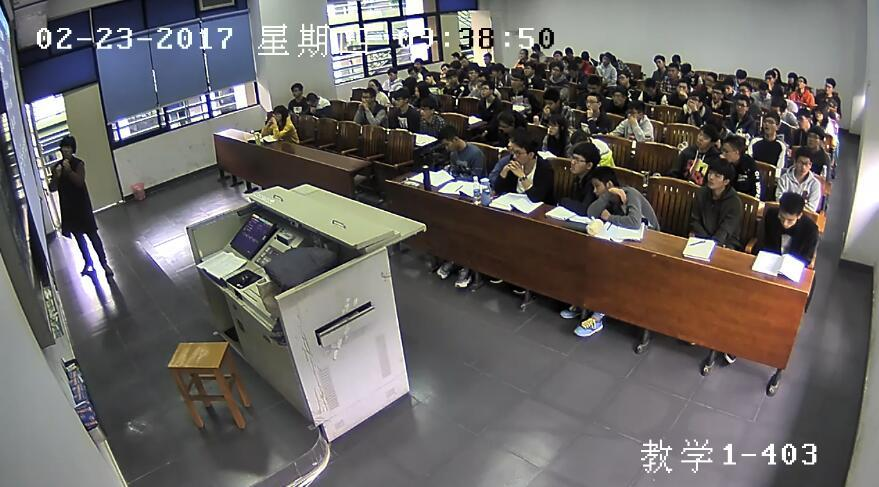head: (773, 187, 808, 232), (583, 162, 619, 201), (701, 160, 735, 198), (567, 143, 597, 173), (506, 132, 532, 165), (790, 144, 814, 179), (716, 134, 741, 163), (438, 126, 462, 155), (693, 123, 714, 152), (496, 109, 518, 135), (543, 111, 564, 138), (757, 112, 779, 136), (566, 127, 589, 149), (701, 114, 723, 137), (58, 134, 79, 158), (806, 125, 827, 149), (609, 84, 628, 110), (416, 97, 436, 121), (583, 90, 601, 116), (539, 88, 560, 110), (501, 127, 520, 151), (626, 99, 645, 123), (684, 90, 702, 114), (769, 96, 787, 119), (271, 101, 287, 125), (792, 107, 811, 127), (584, 74, 600, 97), (287, 80, 305, 99), (819, 74, 836, 94), (640, 74, 656, 95), (755, 79, 771, 100), (390, 89, 406, 109), (651, 51, 667, 71), (708, 84, 724, 104), (734, 94, 750, 114), (507, 69, 523, 88), (359, 88, 375, 106), (412, 80, 427, 99), (445, 68, 459, 88), (476, 83, 493, 99), (674, 80, 689, 98), (617, 69, 631, 87), (665, 63, 679, 81), (679, 59, 693, 77), (365, 75, 378, 94), (304, 90, 319, 106), (737, 81, 752, 97), (720, 79, 734, 96), (384, 66, 398, 82), (409, 54, 422, 71), (734, 68, 747, 84), (476, 72, 488, 89), (701, 70, 713, 87), (423, 69, 436, 84), (784, 70, 797, 85), (812, 106, 825, 121), (824, 97, 837, 112), (548, 49, 562, 62), (466, 64, 478, 79), (487, 62, 499, 77), (548, 62, 560, 77), (763, 70, 775, 85), (769, 65, 781, 80), (437, 62, 450, 75), (447, 48, 460, 61), (458, 55, 471, 68), (515, 46, 527, 60), (670, 52, 682, 66), (599, 52, 611, 65), (406, 66, 417, 80), (522, 60, 533, 74), (561, 45, 572, 59), (795, 73, 806, 87), (527, 51, 538, 64), (530, 42, 540, 56), (566, 62, 576, 75), (572, 58, 583, 69), (481, 51, 491, 63), (580, 49, 590, 60)
